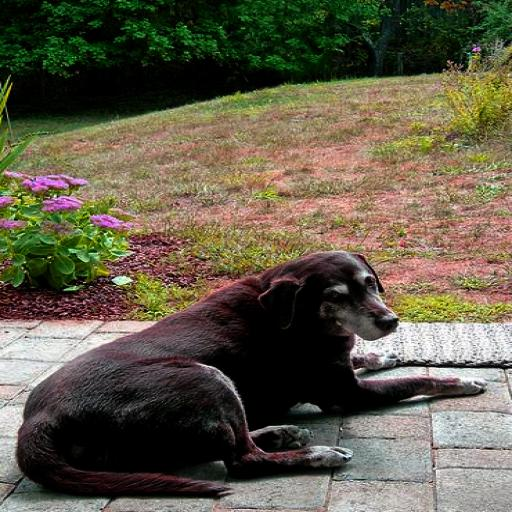dog_face: (259, 248, 427, 349)
